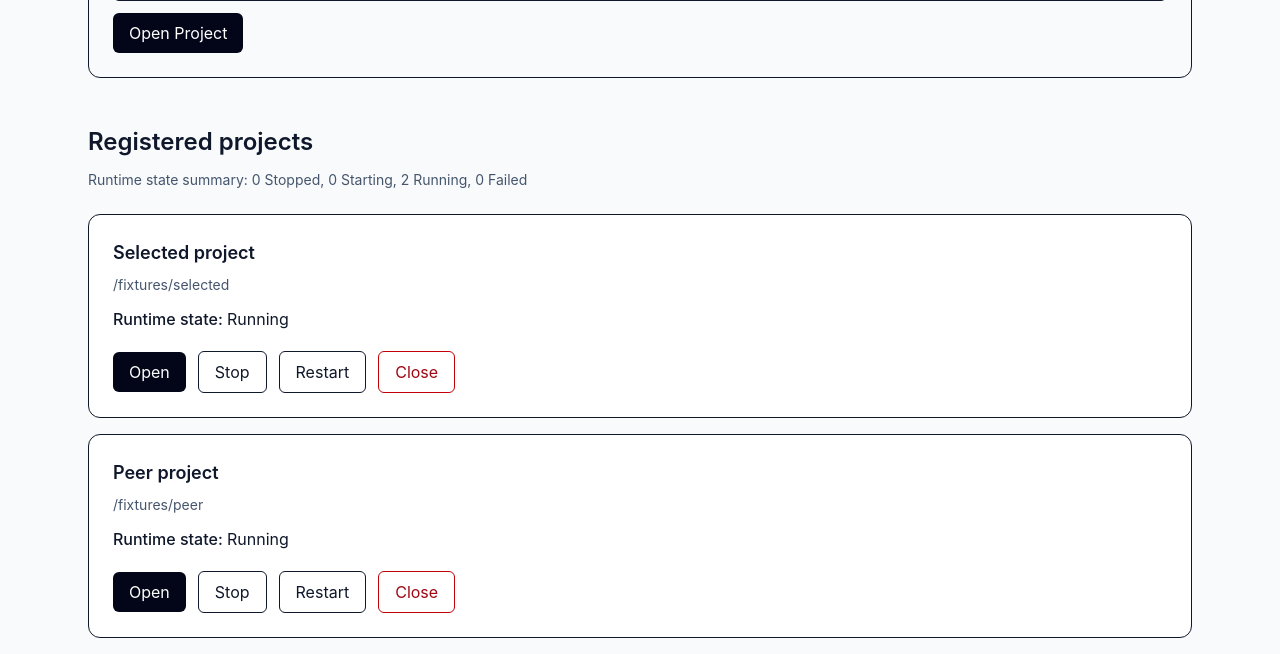
Test: BL-018 scenario 14: home-restart-accessibility-and-focus › announces the client-owned invalid_restart_request rejection in an alert with Retry and discloses nothing protected
(page scrolled)
expect the text labelled "Runtime state summary" is shown: met, box [88,171,527,188]
Click the button with aria-label "Restart Selected project workbench".
click(322, 372)  # box [278,351,366,393]
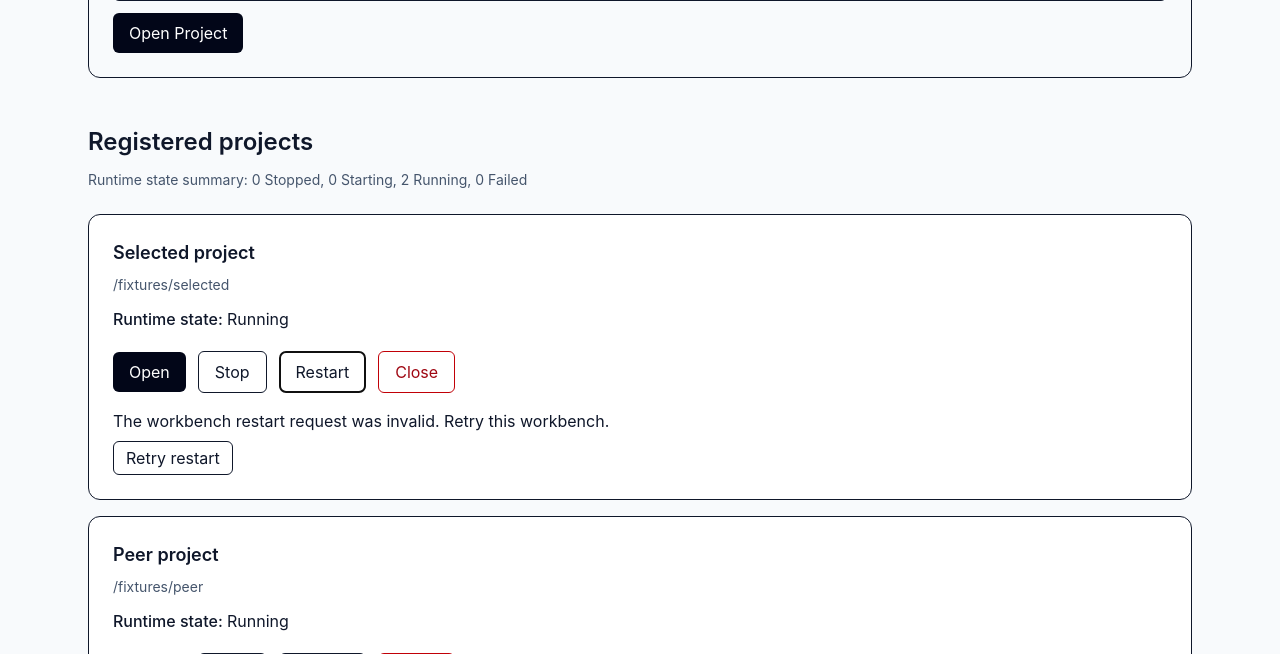
expect the message shows "The workbench restart request was invalid. Retry this workbench.": met, box [113,411,609,431]
expect the button "Retry restart" is shown: met, box [113,441,233,475]
